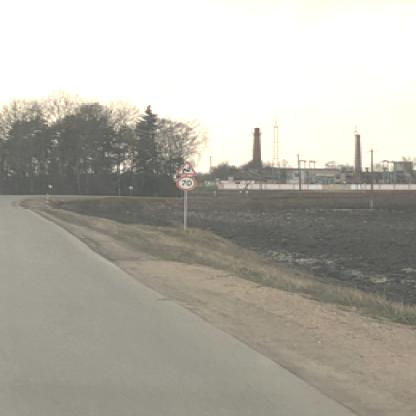speedlimit: (176, 176, 194, 189)
